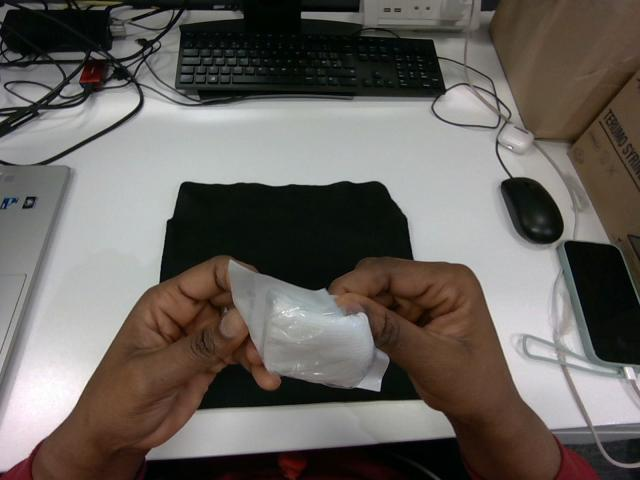gauze: (229, 261, 388, 390)
